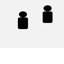human: (40, 2, 54, 24), (16, 9, 29, 30)
